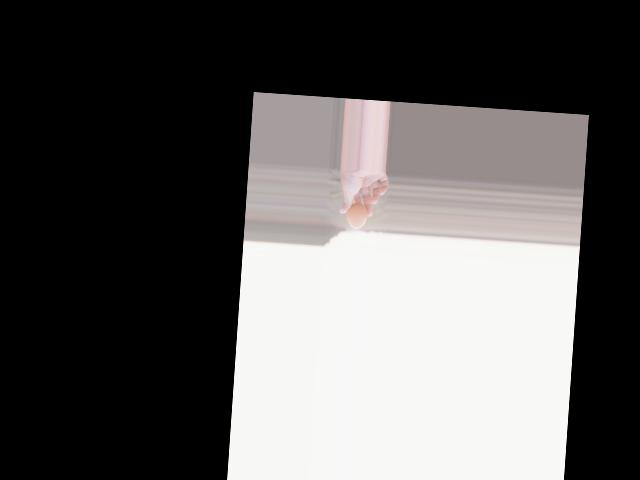egg: (346, 202, 368, 229)
